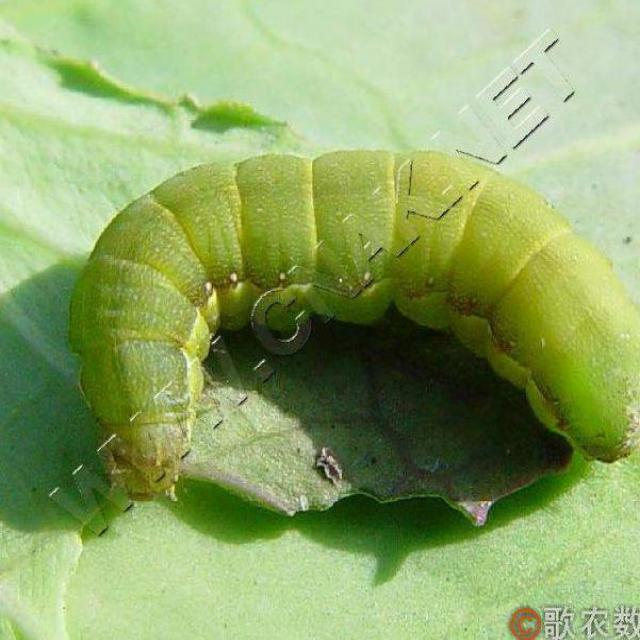BeetArmyWorm-Larva-: (53, 140, 639, 511)
